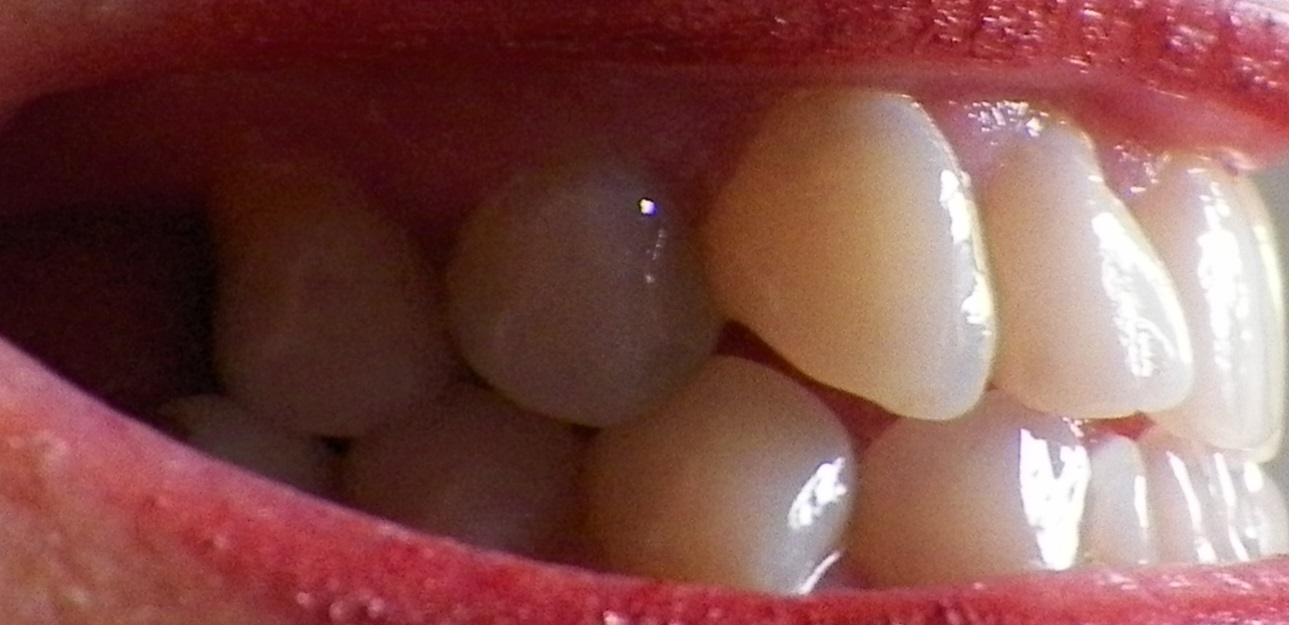boca: (99, 110, 1289, 576)
